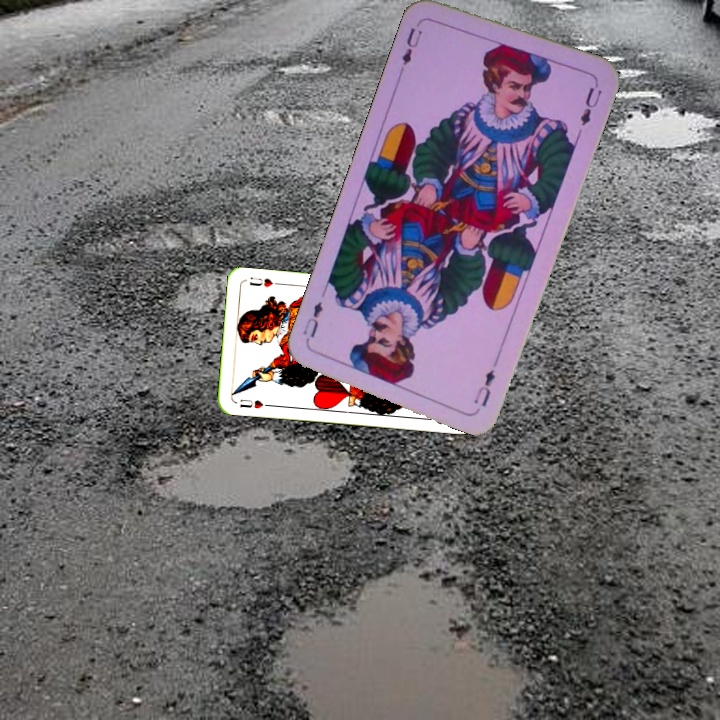EU: (396, 23, 425, 75), (470, 365, 498, 409)
HU: (236, 395, 266, 411)
